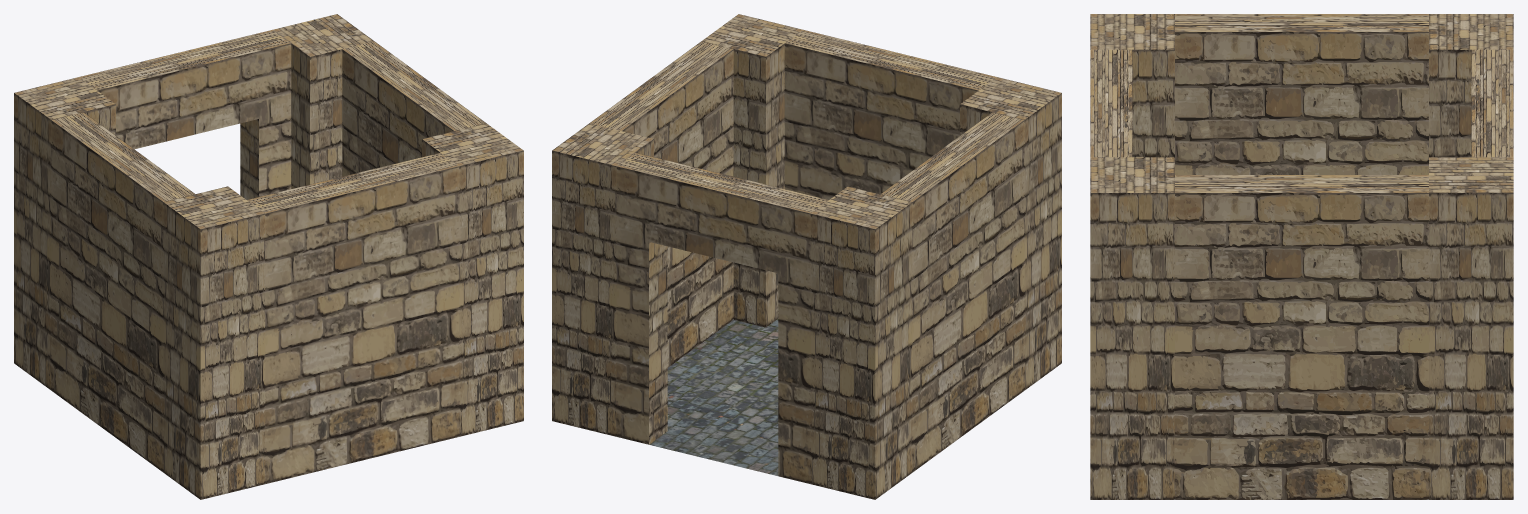
File: 1_singleCap.fbx
The picture shows the model from 3 angles, left to right: view 1: azimuth 30°, elevation 25°; view 2: azimuth 150°, elevation 25°; view 3: azimuth 270°, elevation 25°; orthographic projection. The views are drawn at different scales.
Visible parts, largest first — view 1: Cube_2; view 2: Cube_2, Plane; view 3: Cube_2.
Part boxes in pixels (x1,y1,x2,y2): Cube_2: (14,14,523,499); Cube_2: (552,14,1061,499); Plane: (649,319,778,475); Cube_2: (1090,14,1513,499).
Size of the model in its own units: 10 by 8 by 10.
2 materials, 2 textured.
